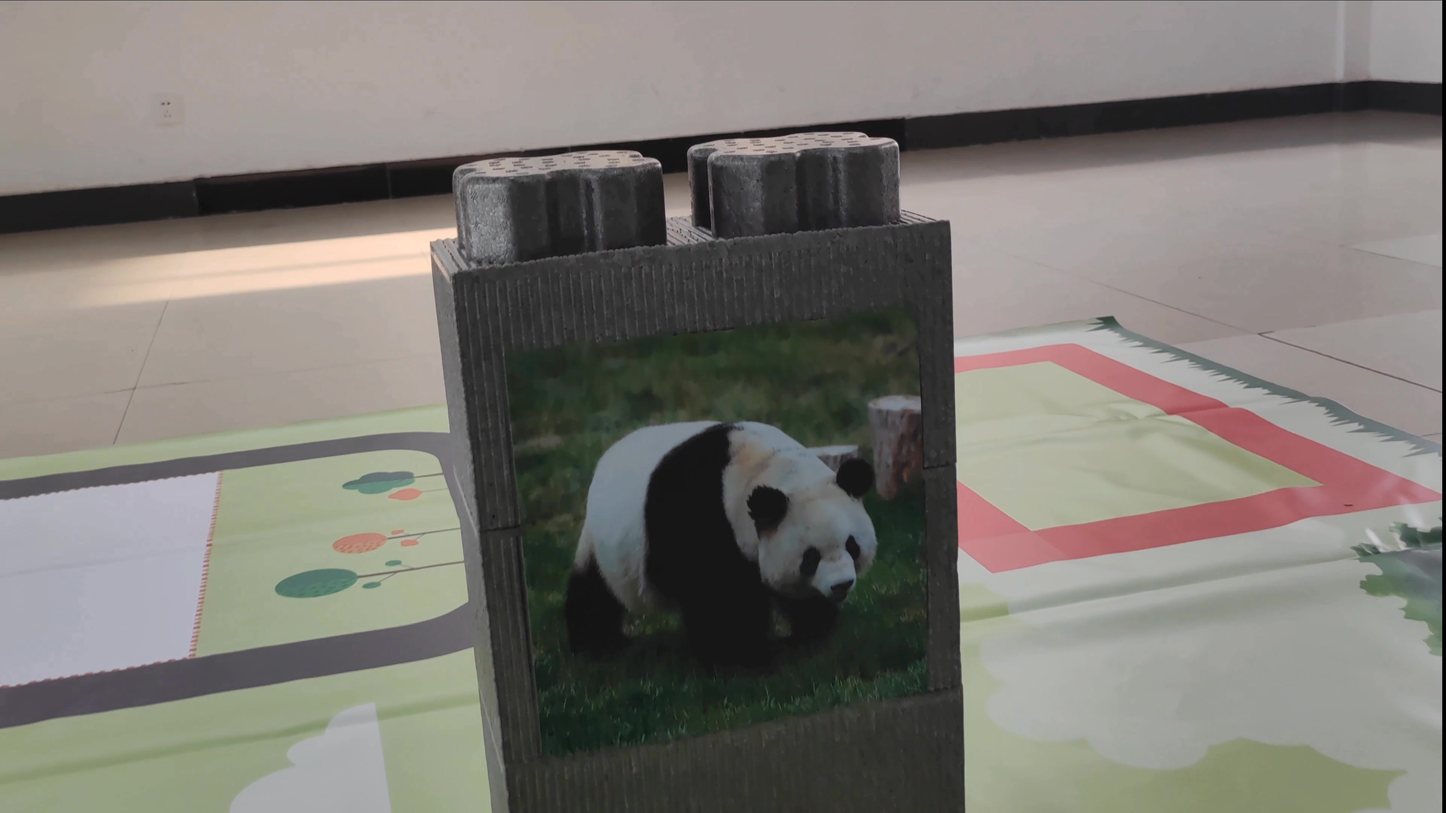panda: (552, 391, 914, 671)
